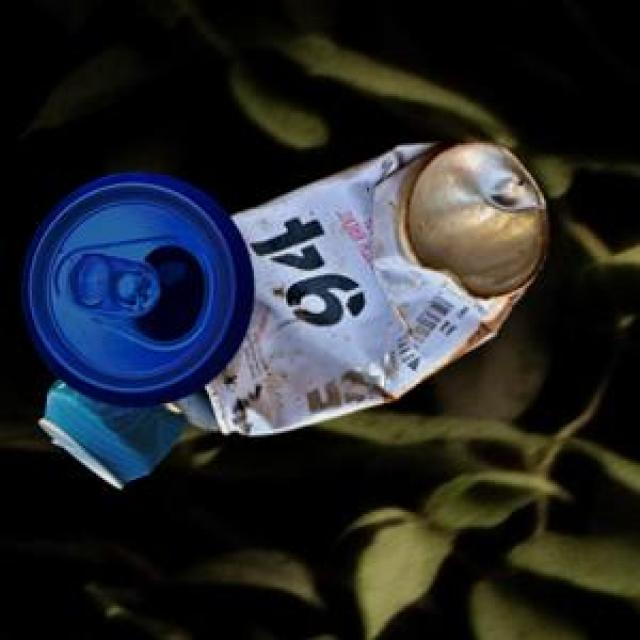logam: (161, 140, 545, 432), (18, 170, 251, 404), (37, 377, 187, 485)
